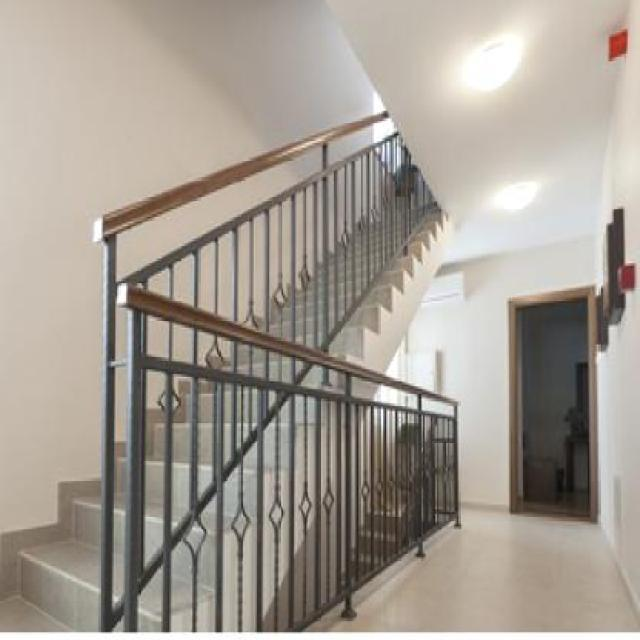stair: (2, 62, 460, 632)
